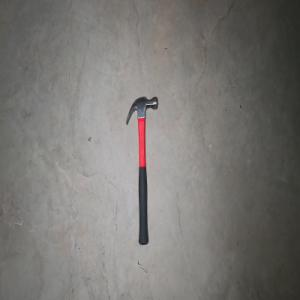Hammer: (125, 95, 158, 246)
